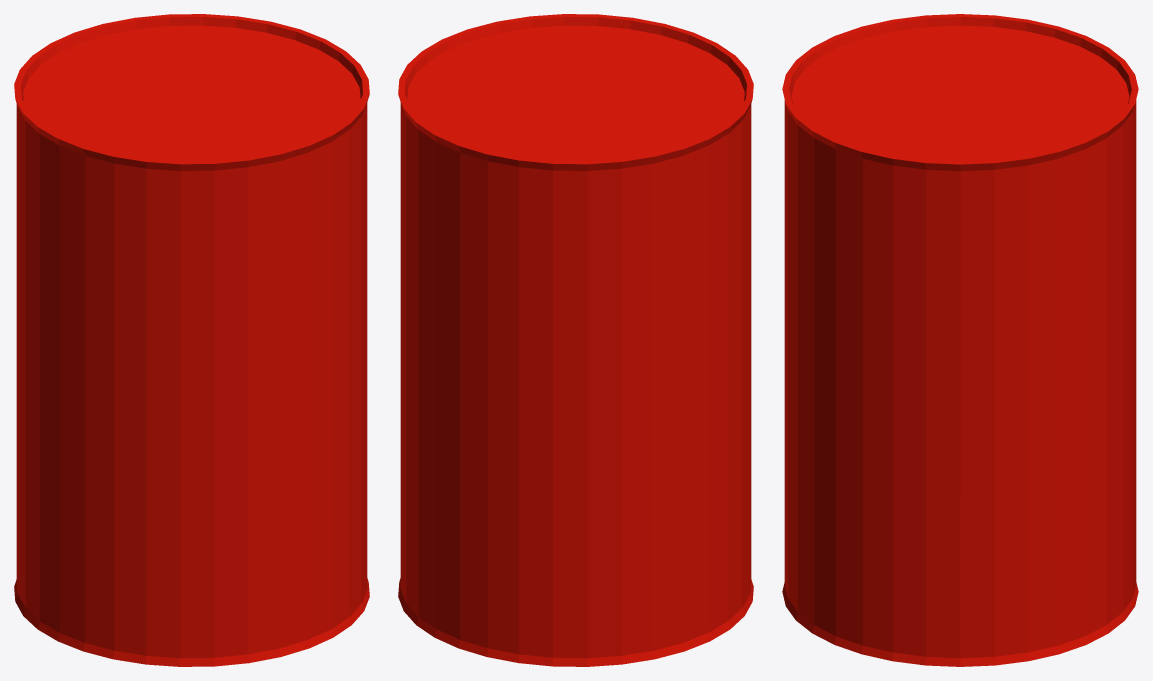
File: tin.fbx
The picture shows the model from 3 angles, left to right: view 1: azimuth 30°, elevation 25°; view 2: azimuth 150°, elevation 25°; view 3: azimuth 270°, elevation 25°; orthographic projection.
Visible parts, largest first — view 1: Cylinder; view 2: Cylinder; view 3: Cylinder.
Part boxes in pixels (box(x1,y1,x2,y2)): Cylinder: box(14, 14, 369, 666); Cylinder: box(398, 14, 753, 666); Cylinder: box(782, 14, 1138, 666).
Bounding box in the file's own units: 203 × 315 × 203.
